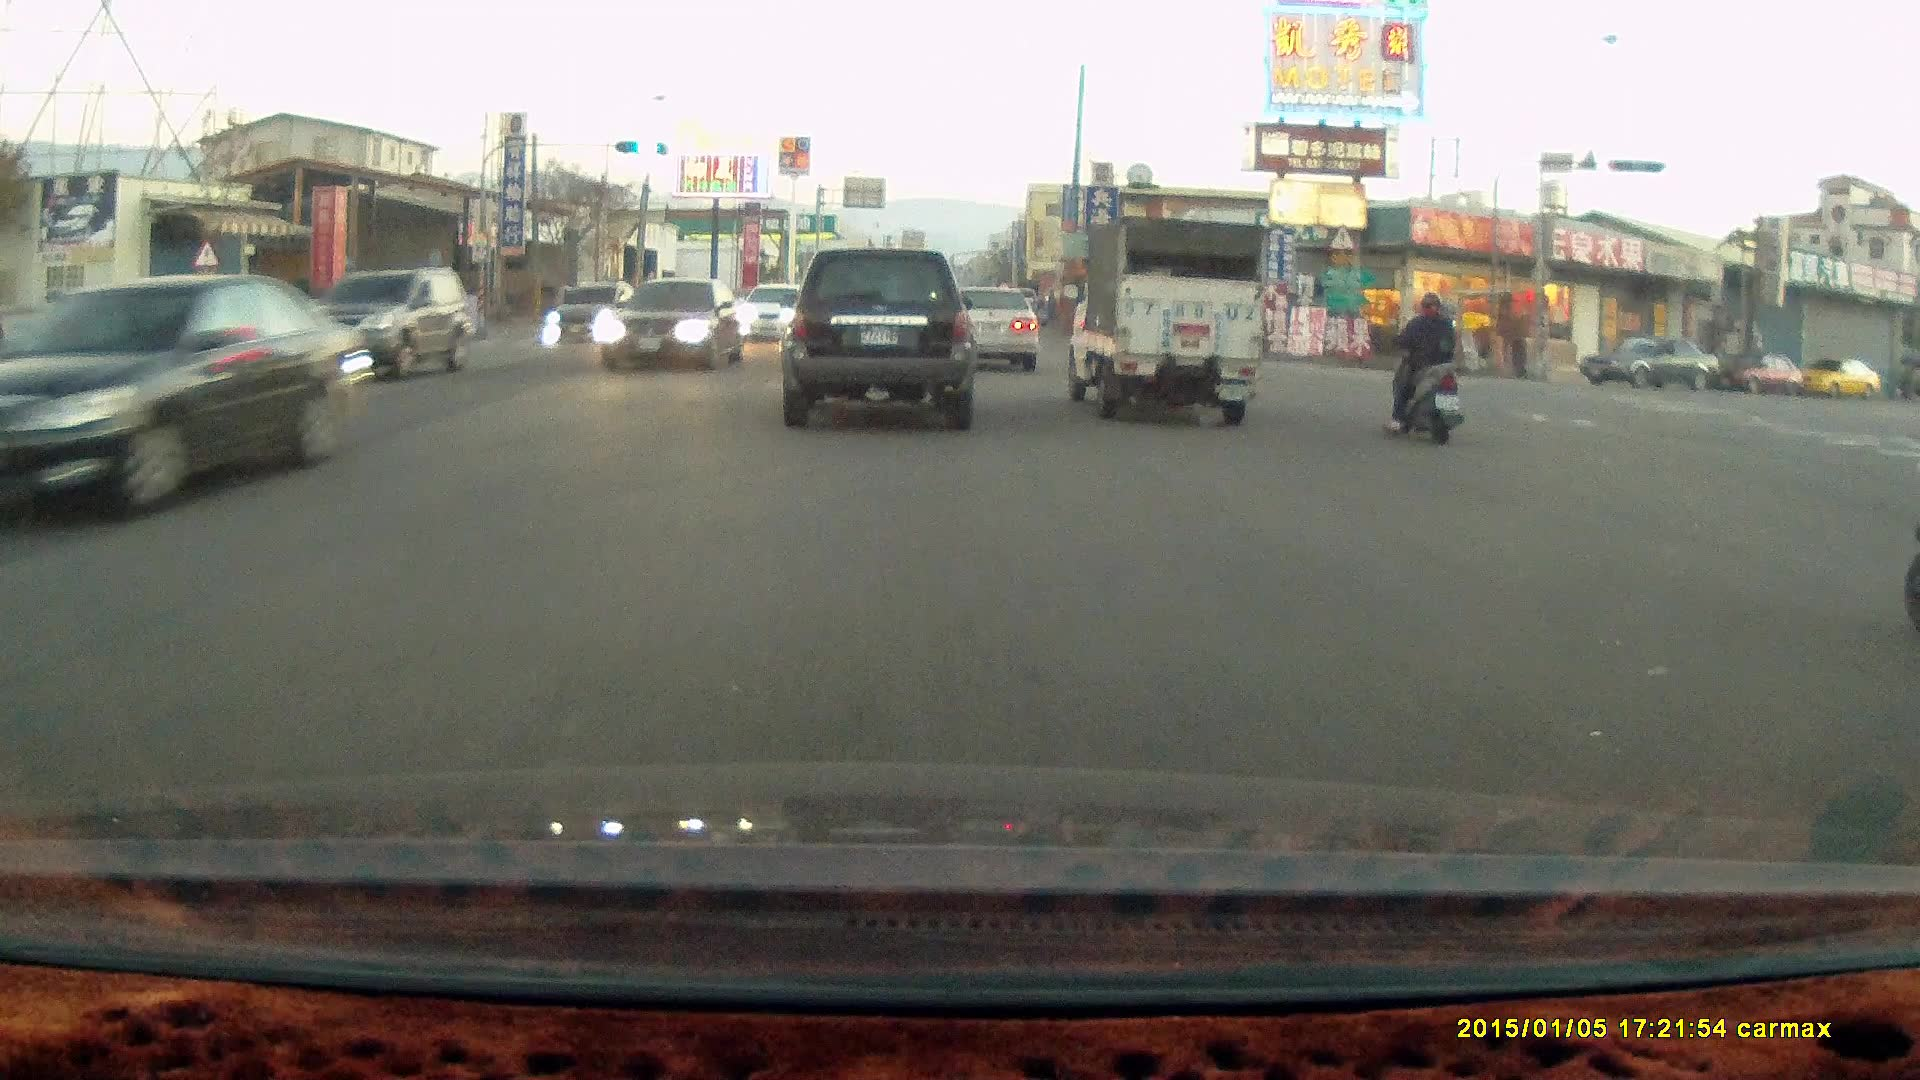rider: (1382, 291, 1461, 447)
vehicle: (3, 272, 369, 534), (1060, 213, 1272, 426), (779, 247, 976, 432), (602, 280, 751, 376), (927, 283, 1038, 375), (945, 287, 1043, 376), (1576, 336, 1725, 393), (549, 280, 639, 348), (345, 288, 457, 336), (1789, 357, 1883, 401), (1719, 352, 1807, 396)
